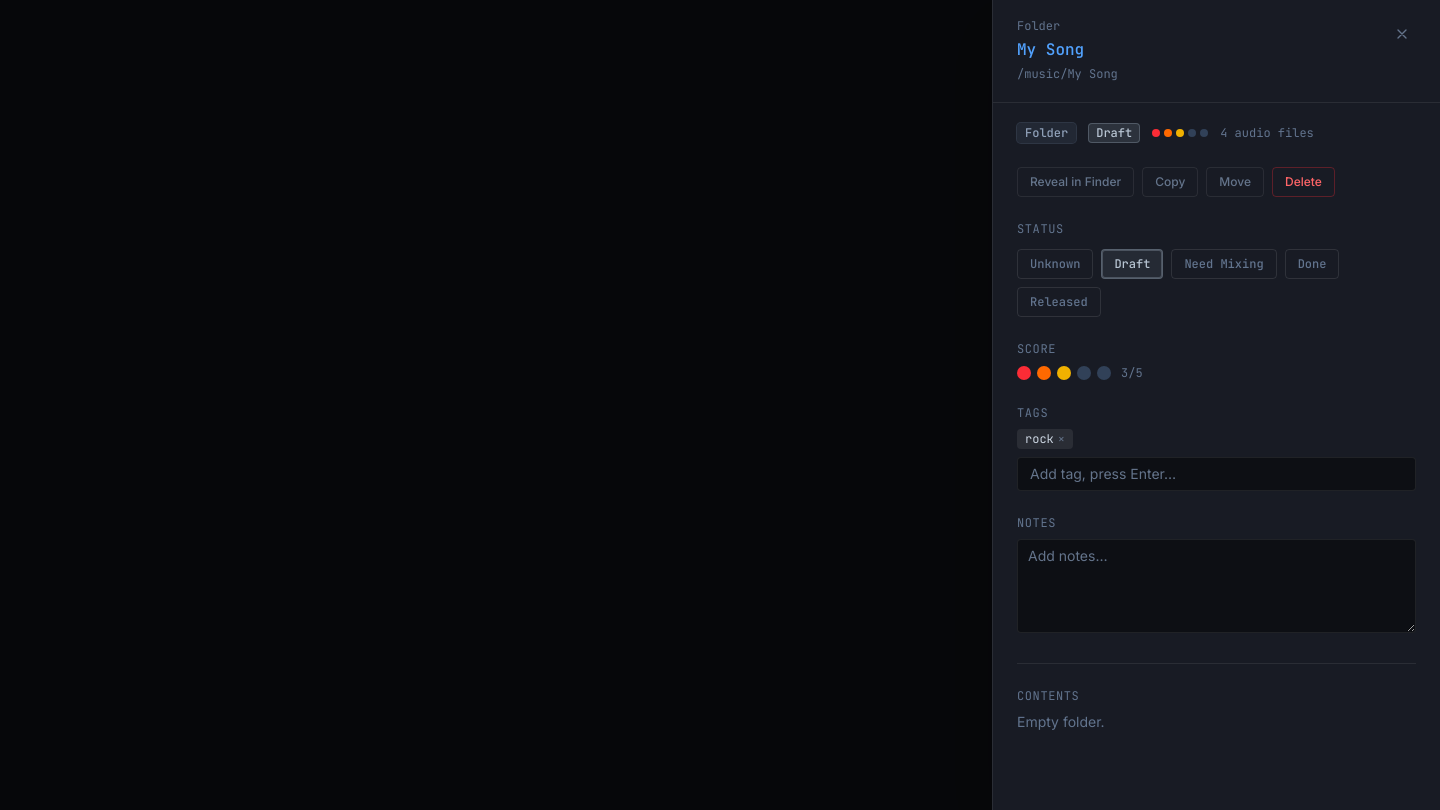
Test: ProjectDetailPanel - tags optimistic update › shows the new tag immediately and keeps it once the save resolves
In the dropdown: [1216, 474] box 1017,457 -> 1416,491, type "jazz"
Then press Enter
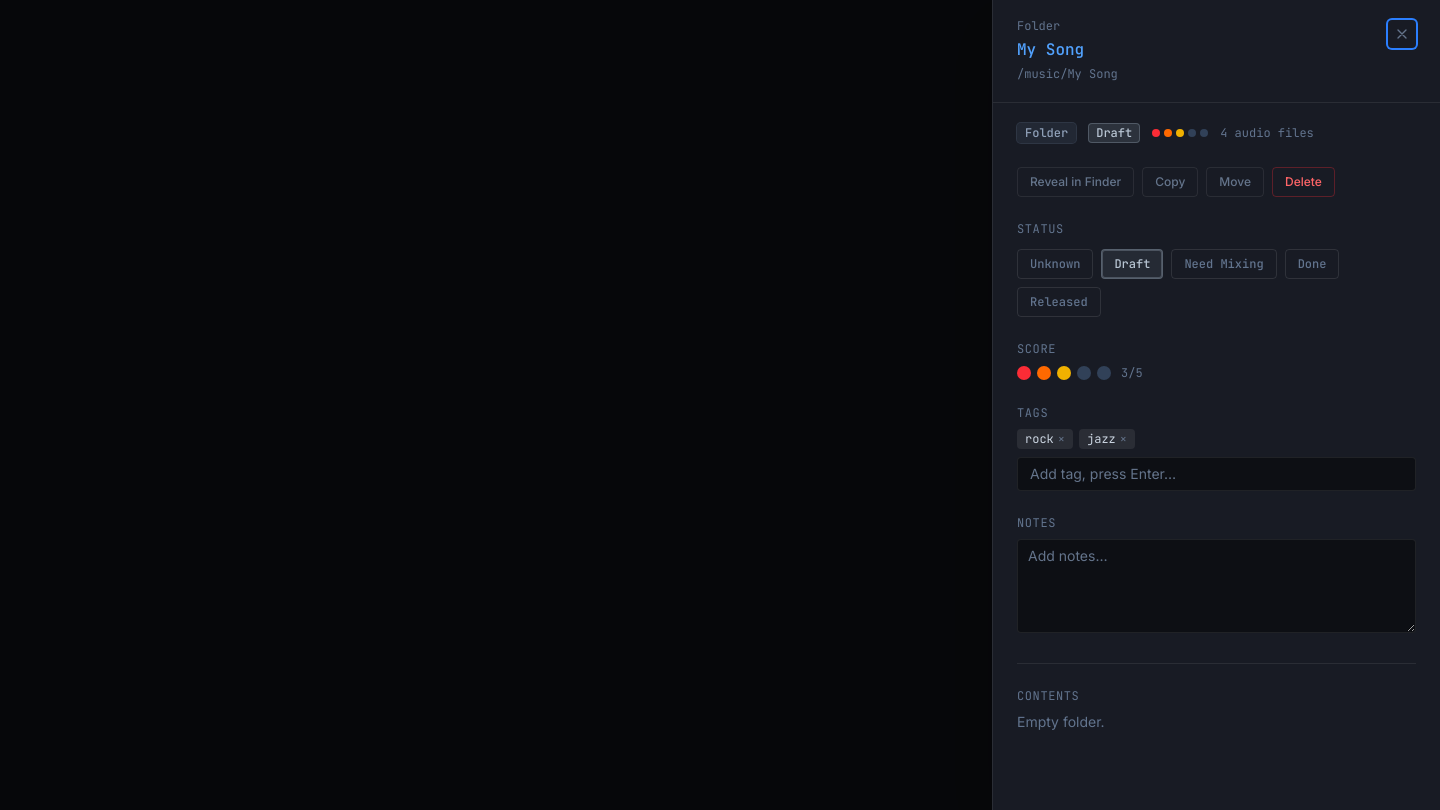
Result: the text "jazz" is shown at 1087,431 -> 1116,447
